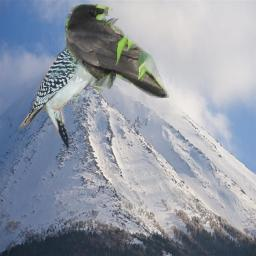Crow: (65, 4, 169, 98)
Woodpecker: (15, 18, 119, 154)
